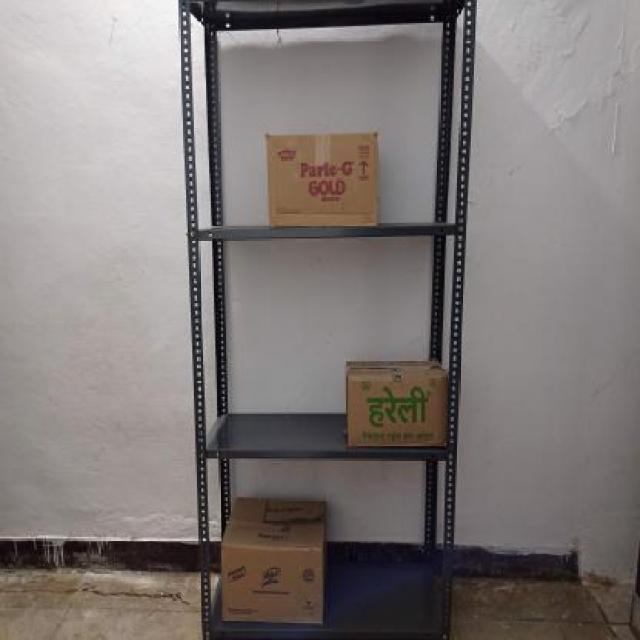box: (265, 131, 378, 227), (344, 372, 448, 448), (220, 546, 322, 620)
